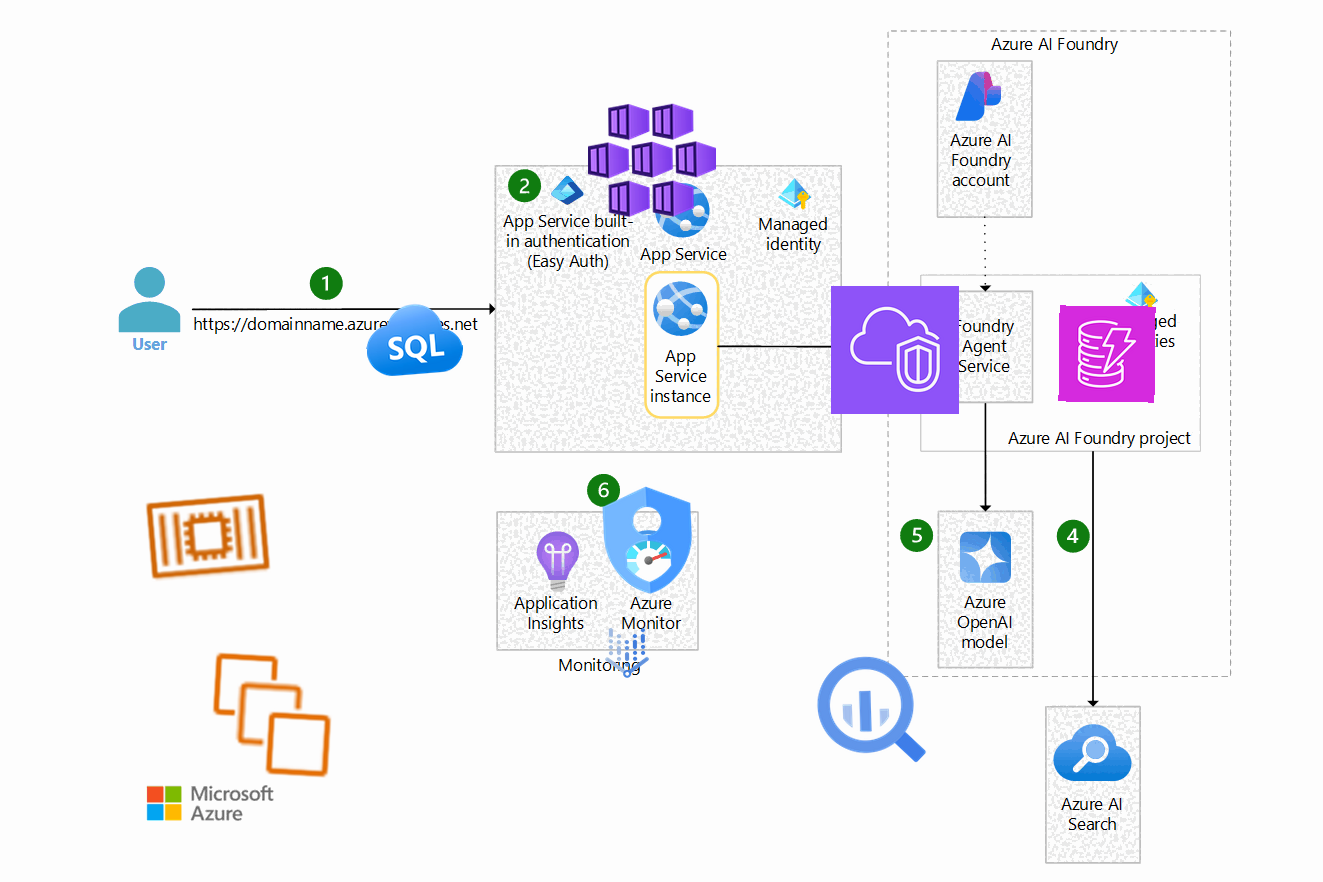aws_amazon_dynamodb: (1058, 305, 1156, 403)
aws_amazon_virtual_private_cloud: (830, 285, 960, 415)
aws_ec2_instances: (204, 647, 340, 783)
aws_elastic_container_service_container_2: (138, 466, 278, 606)
azure_kubernetes_services: (587, 94, 717, 224)
azure_sql: (362, 289, 466, 393)
gcp_bigquery: (805, 644, 937, 776)
gcp_identity_and_access_management: (581, 473, 715, 607)
gcp_vertex_ai: (594, 620, 660, 686)
